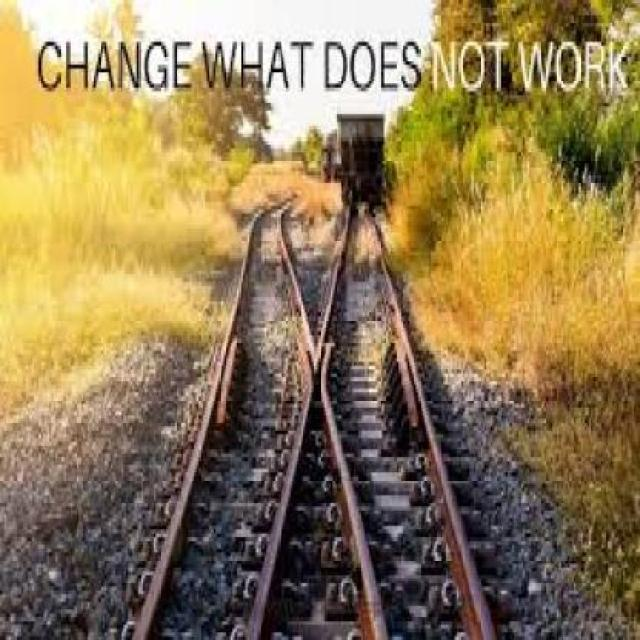danger: (322, 104, 411, 222)
rail: (109, 165, 504, 640)
